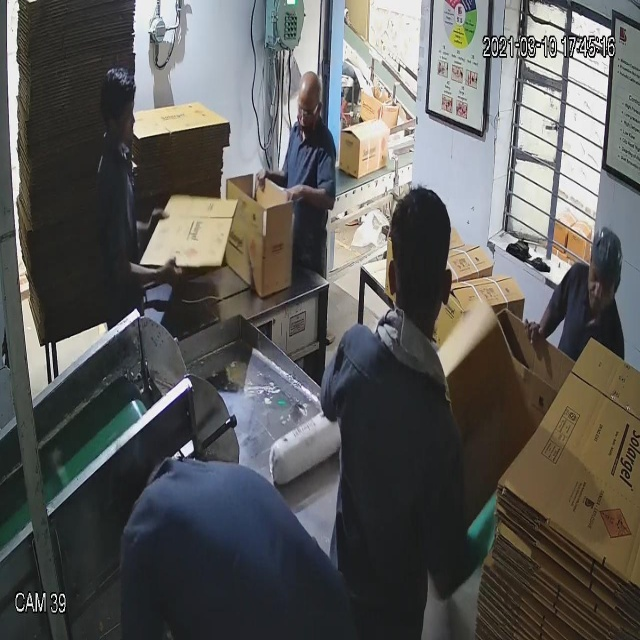Sin_guantes: (114, 244, 183, 298), (518, 290, 555, 372), (280, 172, 335, 226)
